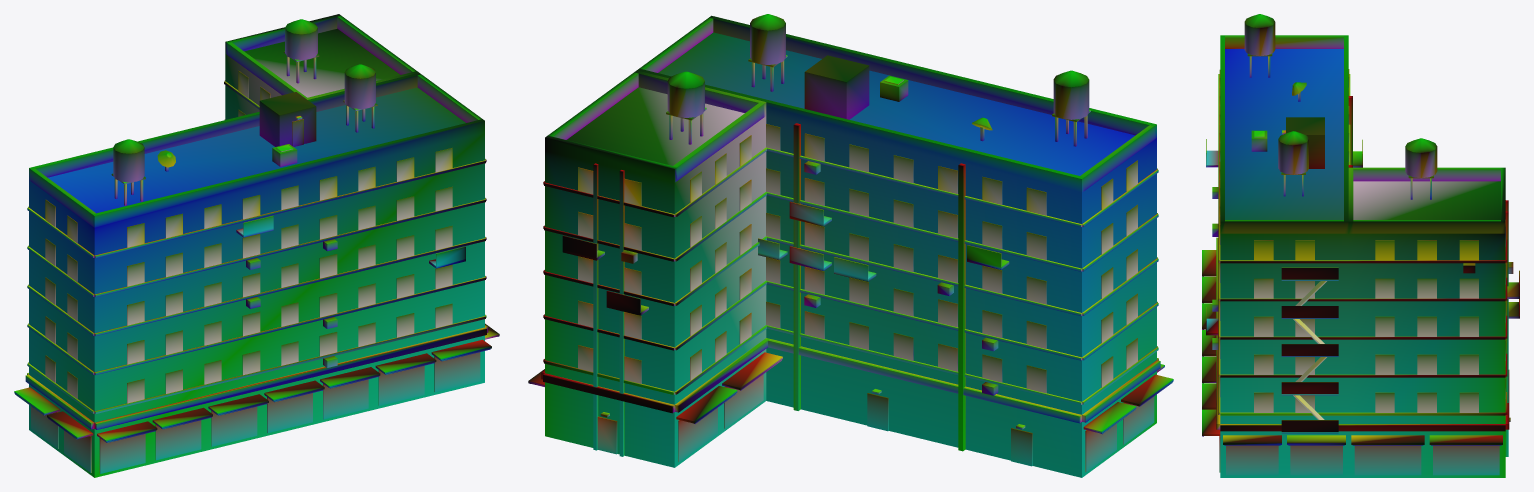
Rendered from Block_Housing_V7.fbx.
3 renders of one model, left to right at view 1: azimuth 30°, elevation 25°; view 2: azimuth 150°, elevation 25°; view 3: azimuth 270°, elevation 25°, orthographic. The views are drawn at different scales.
Visible parts, largest first — view 1: Block_Housing_V7_LOD0; view 2: Block_Housing_V7_LOD0; view 3: Block_Housing_V7_LOD0.
Part boxes in pixels (x1,y1,x2,y2): Block_Housing_V7_LOD0: [14, 14, 499, 477]; Block_Housing_V7_LOD0: [528, 14, 1173, 477]; Block_Housing_V7_LOD0: [1202, 14, 1519, 477].
Size of what is drawn, in the model's own units: 37.1 by 25.91 by 24.5.
